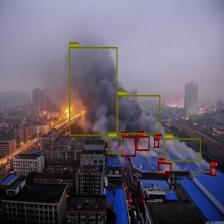fire: (121, 136, 136, 157), (136, 136, 149, 150), (158, 162, 171, 174), (210, 166, 216, 175), (154, 138, 159, 148)
smoke: (69, 47, 117, 136), (117, 95, 160, 134), (164, 138, 200, 161), (108, 136, 122, 154)
